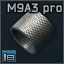M9A3 thread protection cap: (0, 0, 64, 64)
